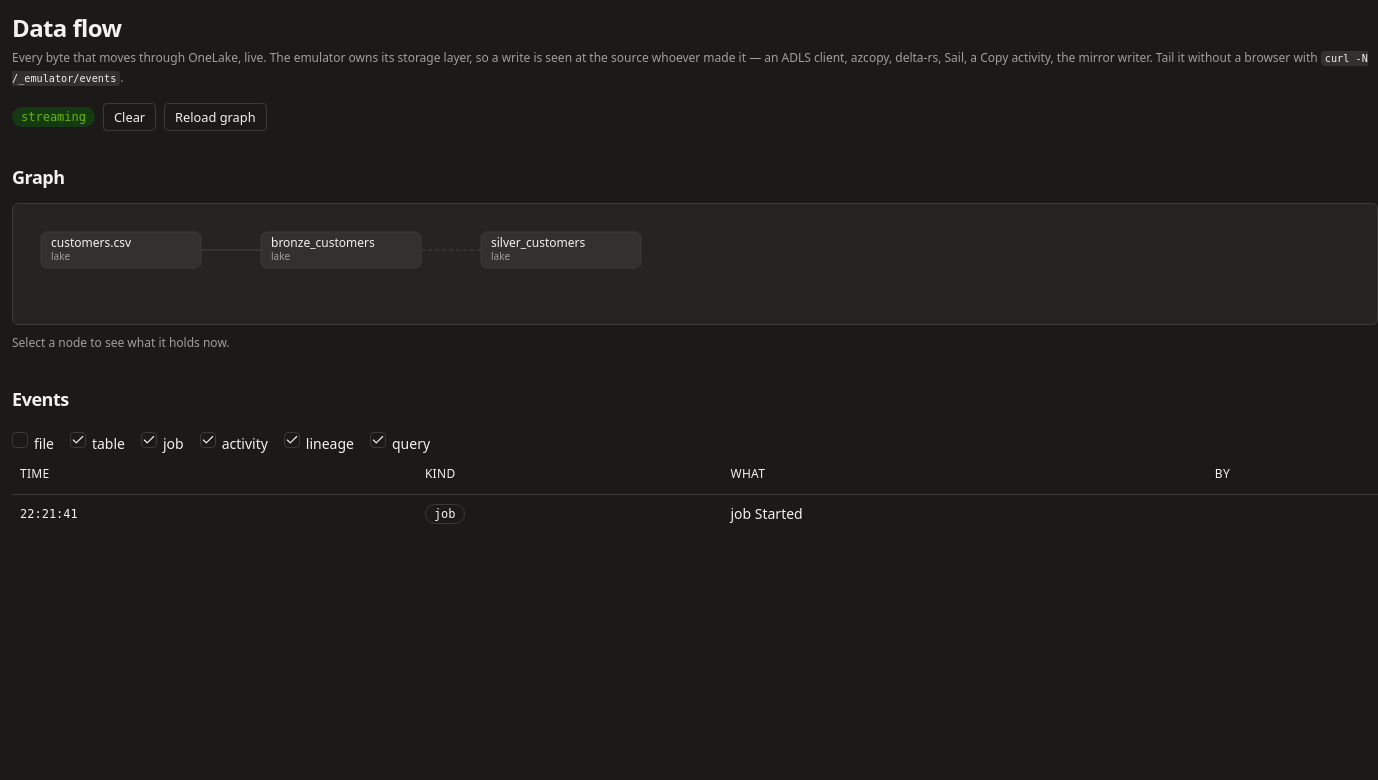
Flow › filters by kind without losing events already received
Expected: the text "bronze_customers" is shown, [271,234,375,251]
Expected: the text "job Started" is shown, [722,495,1207,532]
Note: Turning `file` on reveals the event that already arrived.
Click the checkbox named "file" next to "file" at (20, 440), box [12,432,28,448]
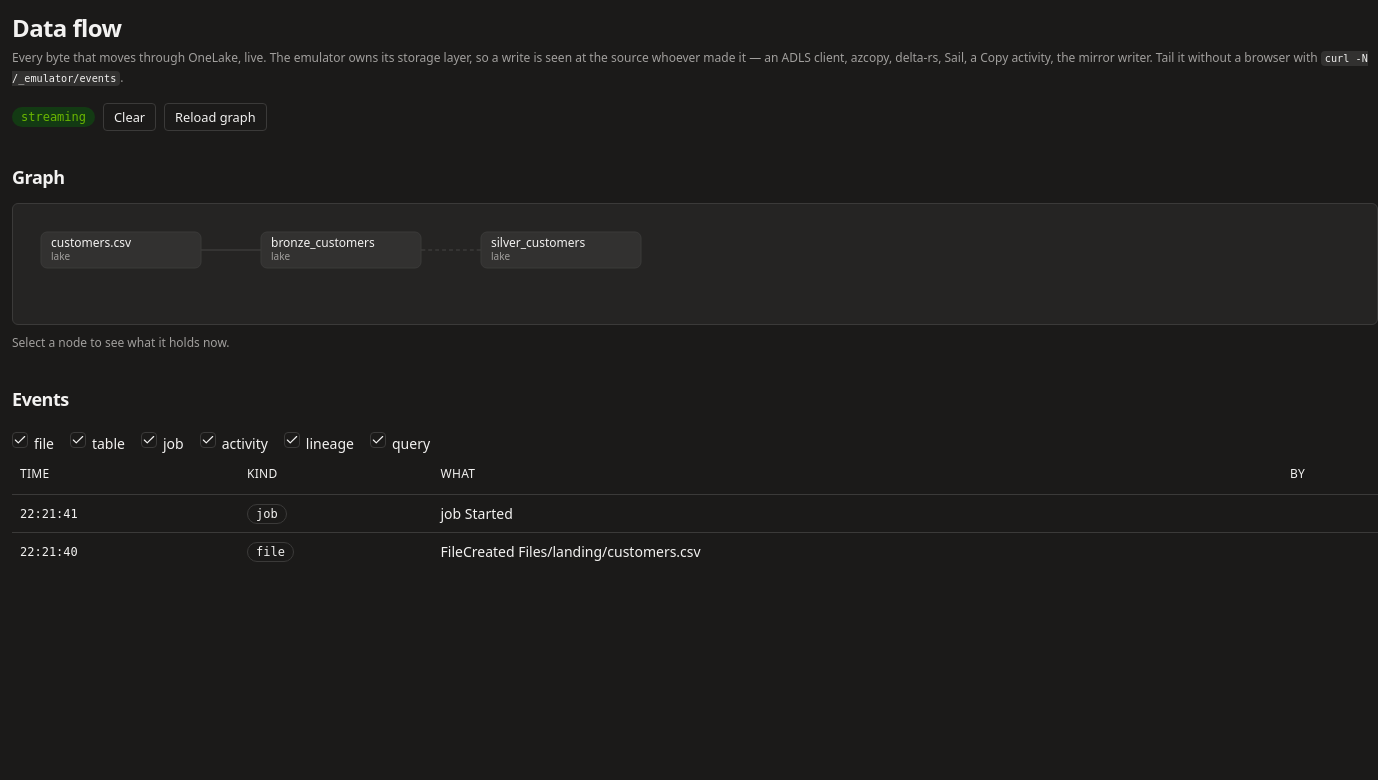
Now the text "FileCreated Files/landing/customers.csv" is shown, box [432,533,1282,570]
